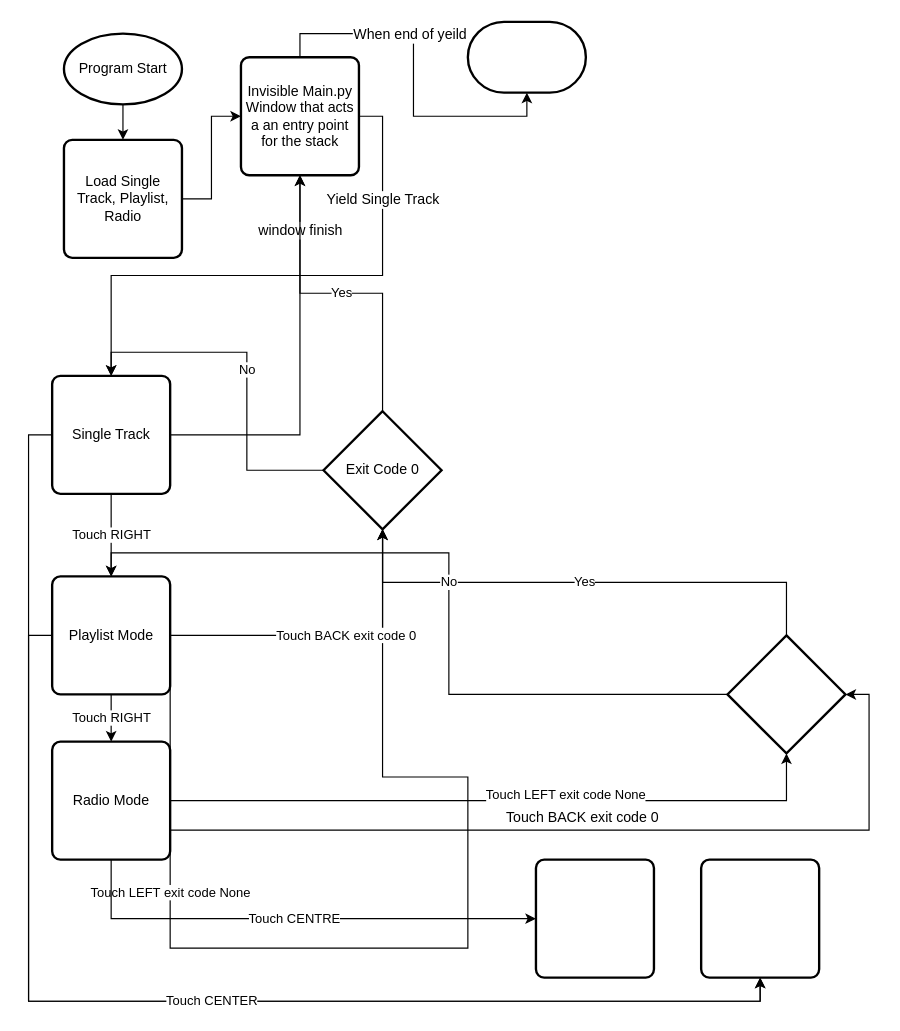
Some shapes in this 900 by 1031 pixel diagram are drawn without their labels. The box of each missing label's shape, as (x1, y1, x2, y2) in pixels:
Exit Code 0?: (726, 634, 846, 754)
Local Player Window: (699, 858, 820, 978)
Program Terminate: (466, 20, 586, 93)
Radio Player Window: (534, 858, 655, 978)
